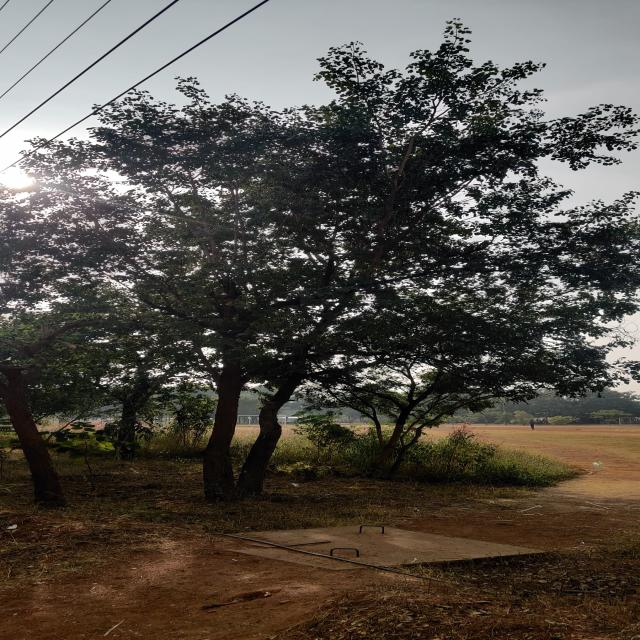Devakanchan tree: (143, 55, 600, 402)
